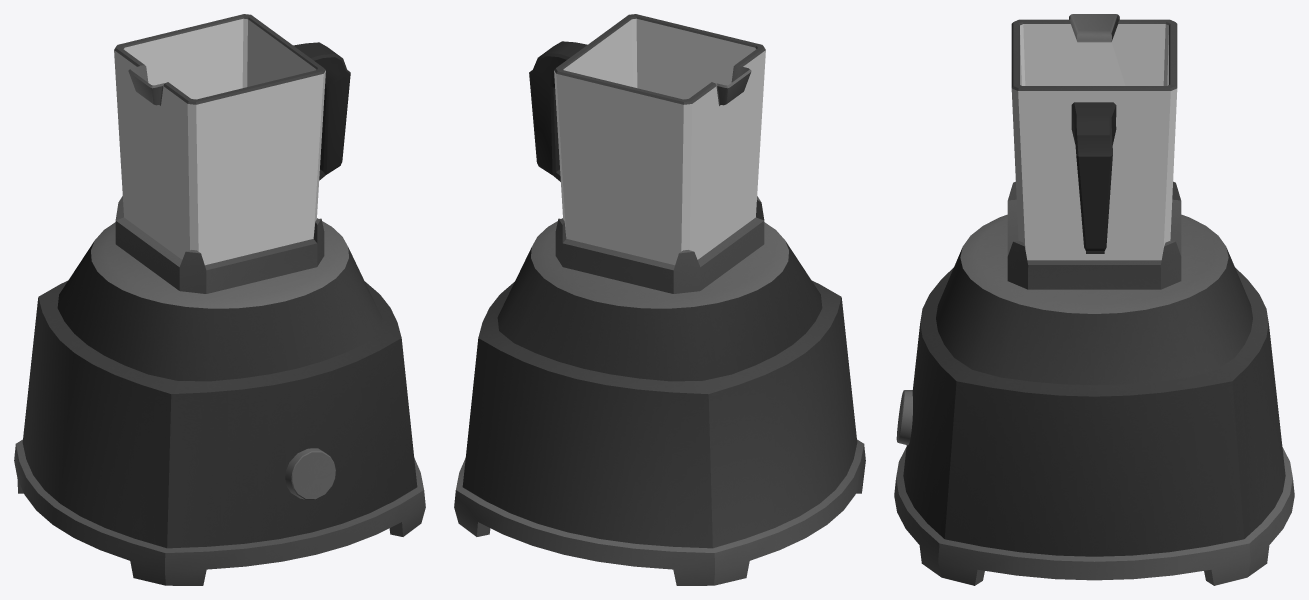
The model's file is blender2.fbx.
The picture shows the model from 3 angles, left to right: view 1: azimuth 30°, elevation 25°; view 2: azimuth 150°, elevation 25°; view 3: azimuth 270°, elevation 25°; orthographic projection. The views are drawn at different scales.
Parts seen in each view (by area): view 1: blender2, blender2Glass; view 2: blender2, blender2Glass; view 3: blender2, blender2Glass.
Part boxes in pixels (x1,y1,x2,y2): blender2: (14, 14, 425, 585); blender2Glass: (114, 18, 325, 265); blender2: (454, 14, 865, 585); blender2Glass: (554, 18, 765, 265); blender2: (894, 14, 1294, 585); blender2Glass: (1011, 24, 1177, 260).
Bounding box in the file's own units: 1.48 × 1.88 × 1.48.
